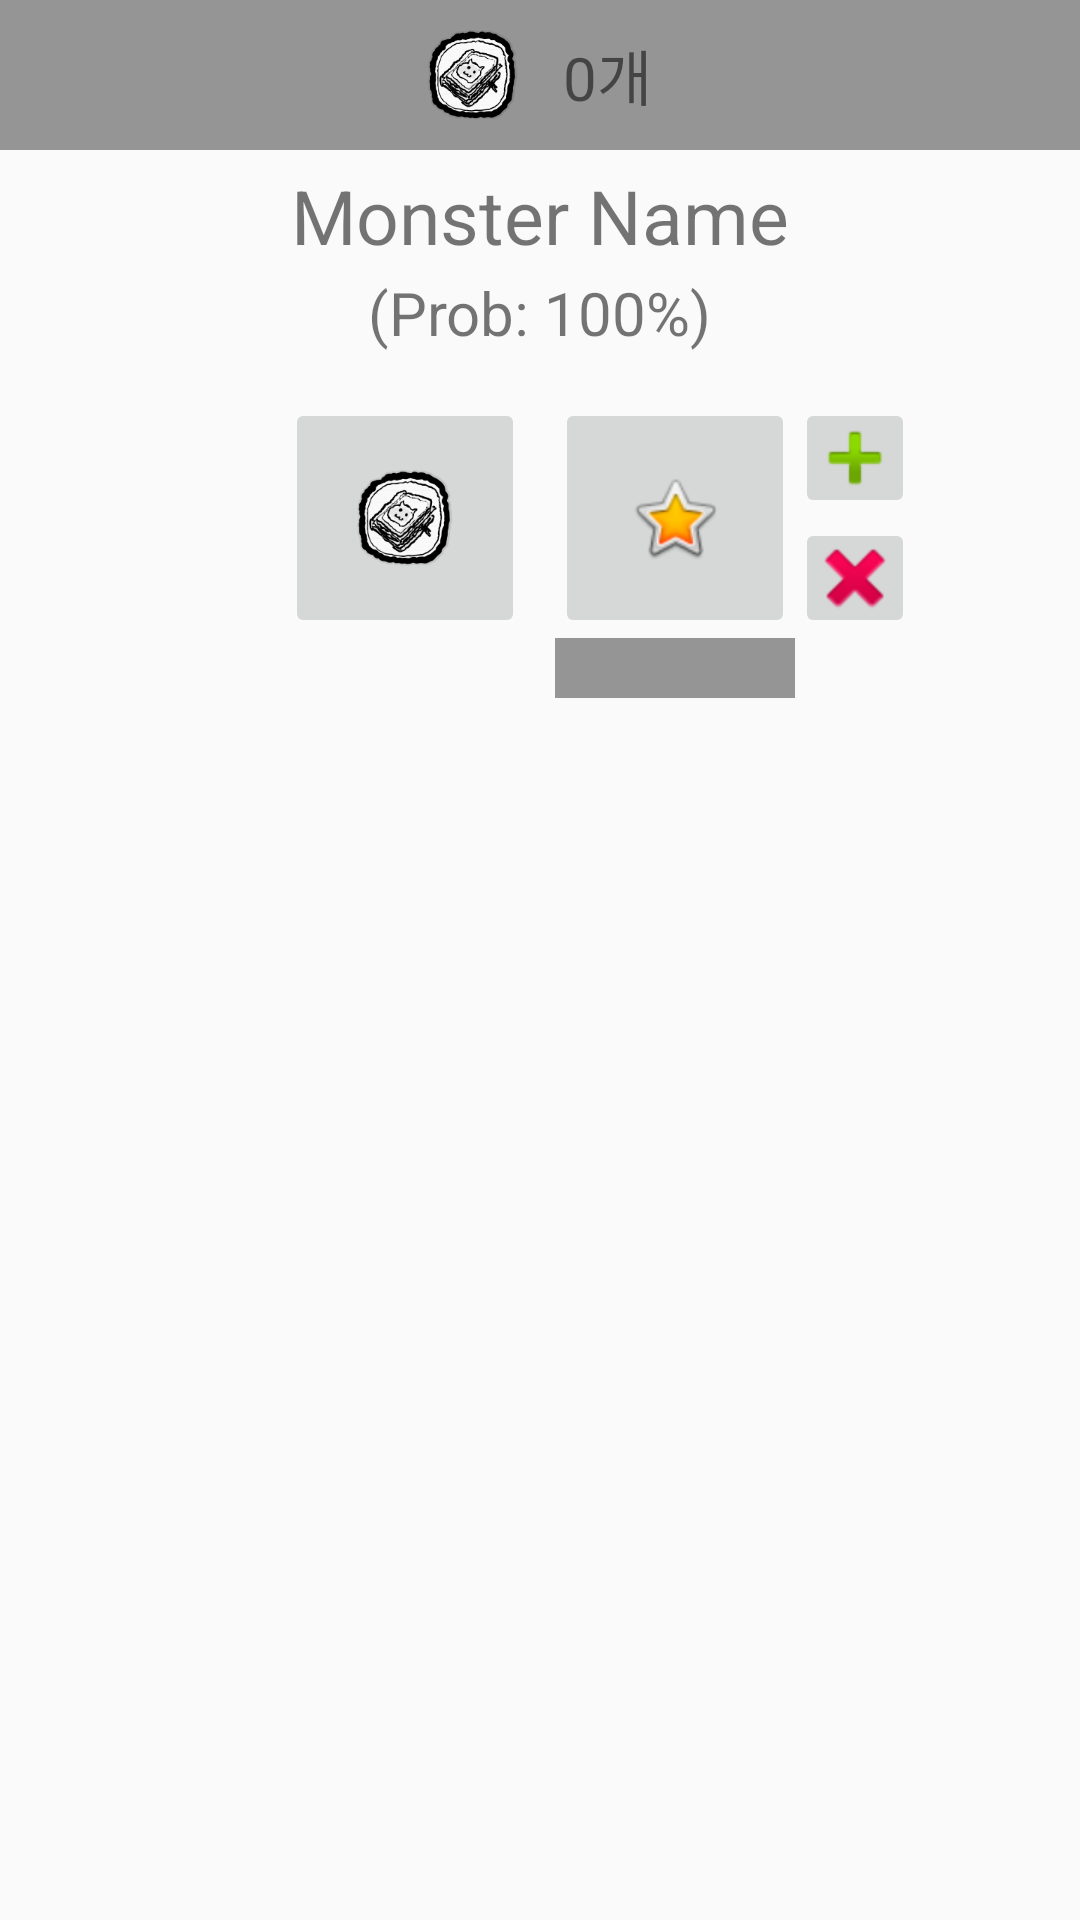

Icon bounding boxes for this 1080px×1920px phone screenshot, format (x1, y1, x2, y2):
add: (807, 416, 903, 500)
delete: (807, 536, 903, 620)
star on: (567, 416, 783, 620)
